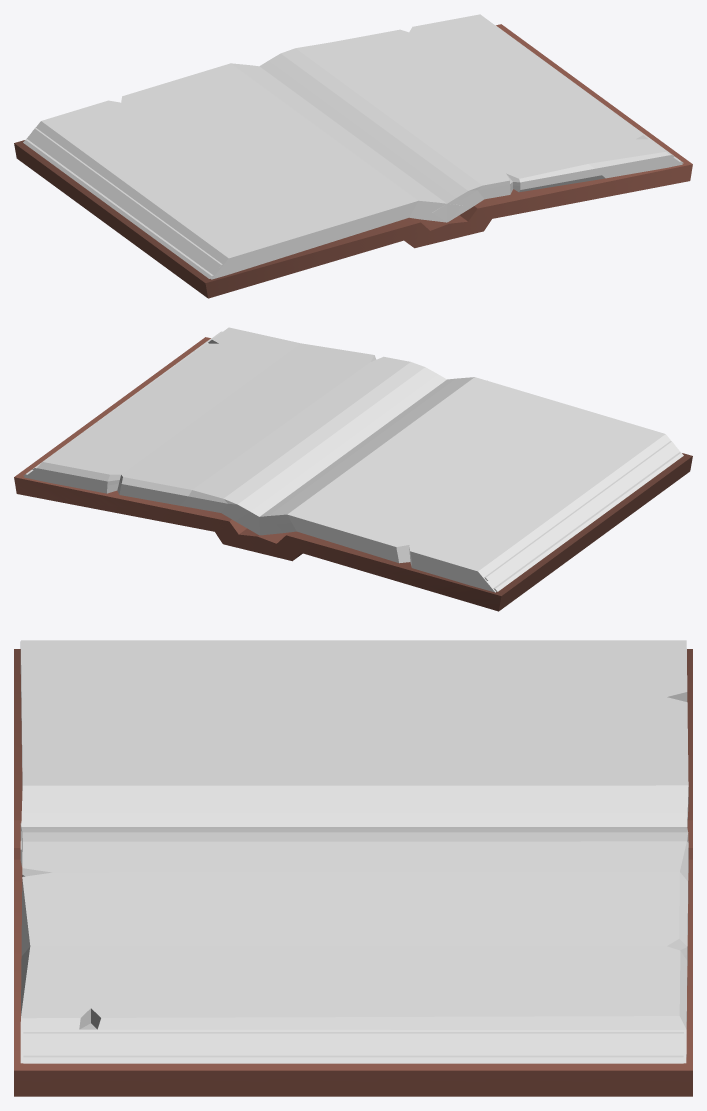
Rendered from Book.fbx.
3 renders of one model, top to bottom at view 1: azimuth 30°, elevation 25°; view 2: azimuth 150°, elevation 25°; view 3: azimuth 270°, elevation 25°, orthographic. The views are drawn at different scales.
Parts seen in each view (by area): view 1: Plane.001; view 2: Plane.001; view 3: Plane.001.
Part boxes in pixels (left/top/right/bottom): Plane.001: left=14, top=14, right=692, bottom=298; Plane.001: left=14, top=327, right=692, bottom=611; Plane.001: left=14, top=640, right=692, bottom=1096.
Bounding box in the file's own units: 860 × 74.48 × 585.
